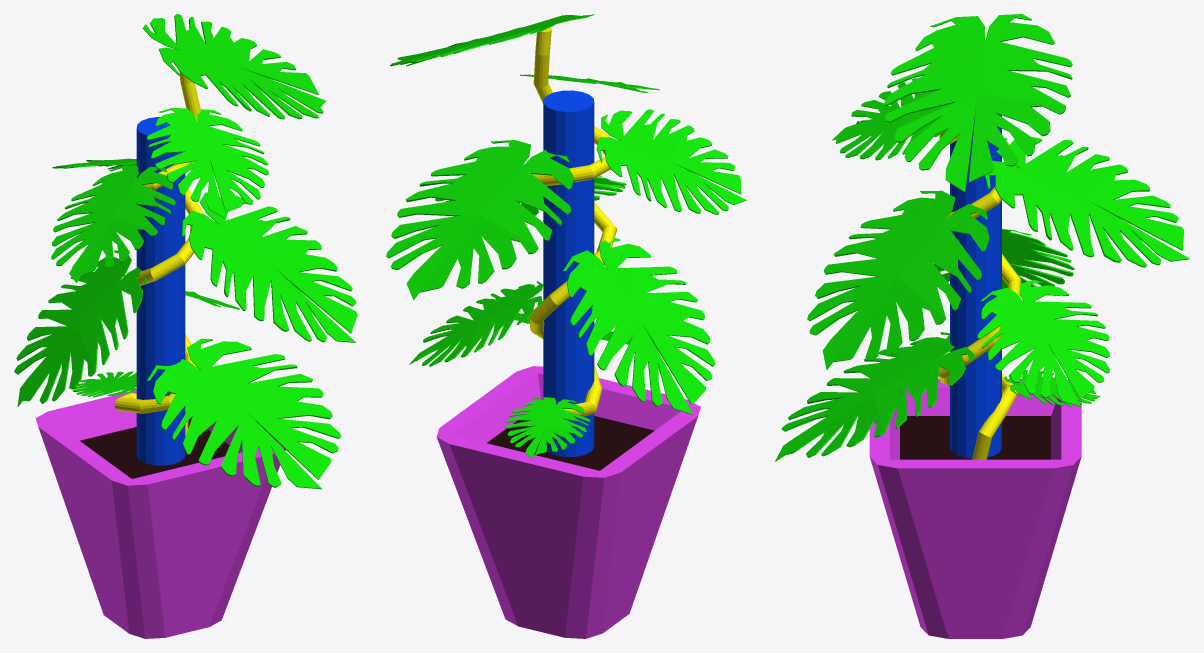
Rendered from monstera.fbx.
3 views of the same model, side by side, from view 1: azimuth 30°, elevation 25°; view 2: azimuth 150°, elevation 25°; view 3: azimuth 270°, elevation 25° (orthographic). The views are drawn at different scales.
Parts seen in each view (by area): view 1: Pot, Leaf.006, Leaf.001, Stand, Leaf.004, Leaf.005, Leaf.008, Leaf, Stem, Leaf.007, Leaf.002; view 2: Pot, Leaf.002, Leaf.004, Stand, Leaf.008, Leaf.003, Stem, Leaf.007, Leaf.005, Leaf.001, Leaf; view 3: Pot, Leaf.005, Leaf.001, Leaf.002, Leaf.006, Leaf.003, Stand, Leaf, Stem, Leaf.004, Leaf.007.
Boxes of the visible parts, <box> form: Pot: <box>35,390,285,638</box>; Leaf.006: <box>147,338,340,489</box>; Leaf.001: <box>181,192,357,342</box>; Stand: <box>136,117,185,465</box>; Leaf.004: <box>14,250,146,406</box>; Leaf.005: <box>142,14,325,119</box>; Leaf.008: <box>51,165,175,283</box>; Leaf: <box>146,107,268,218</box>; Stem: <box>114,59,203,436</box>; Leaf.007: <box>73,371,136,397</box>; Leaf.002: <box>52,158,136,169</box>; Pot: <box>436,366,700,638</box>; Leaf.002: <box>386,140,573,300</box>; Leaf.004: <box>563,238,715,414</box>; Stand: <box>543,90,594,456</box>; Leaf.008: <box>596,109,746,214</box>; Leaf.003: <box>409,281,543,366</box>; Stem: <box>530,27,617,443</box>; Leaf.007: <box>505,397,590,458</box>; Leaf.005: <box>390,14,594,66</box>; Leaf.001: <box>435,175,626,215</box>; Leaf: <box>520,74,659,92</box>; Pot: <box>869,379,1081,638</box>; Leaf.005: <box>883,14,1072,192</box>; Leaf.001: <box>807,190,989,369</box>; Leaf.002: <box>984,136,1189,267</box>; Leaf.006: <box>775,332,974,461</box>; Leaf.003: <box>977,280,1109,406</box>; Stand: <box>950,114,1001,458</box>; Leaf: <box>832,78,950,160</box>; Stem: <box>938,48,1021,459</box>; Leaf.004: <box>933,228,1074,288</box>; Leaf.007: <box>1004,370,1100,406</box>.
Size of the model in its own units: 54.93 by 102 by 63.8.
